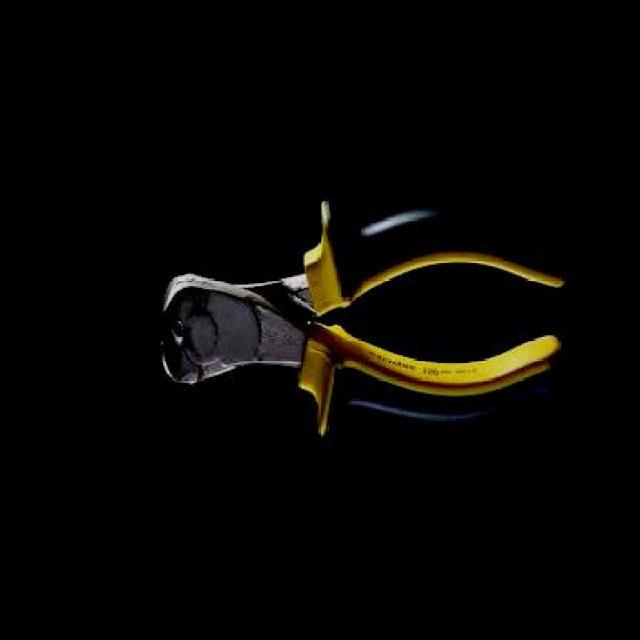pliers: (131, 189, 567, 443)
